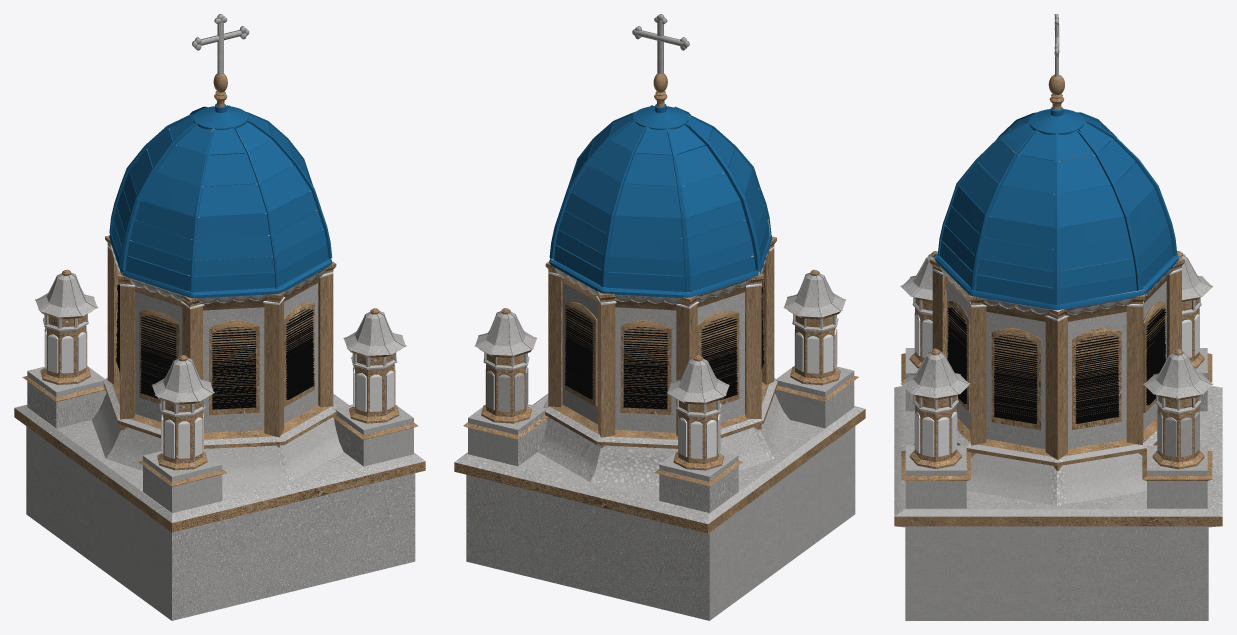
The model's file is UD-Dome.dae.
3 renders of one model, left to right at view 1: azimuth 30°, elevation 25°; view 2: azimuth 150°, elevation 25°; view 3: azimuth 270°, elevation 25°, orthographic. The views are drawn at different scales.
Visible parts, largest first — view 1: Main Fab, Side_brick_4, Side_brick_2, Side_brick_3, Window_5, Window_Pane_5, Main_column_7, Main_column_5, Main_column_8, Window_1, Window_6, Cylinder.003 (+10 smaller); view 2: Main Fab, Side_brick_3, Side_Brick_1, Window_7, Window_Pane_7, Side_brick_4, Main_column_3, Main_column_5, Window_4, Main_column_2, Window_8, Cylinder.002 (+10 smaller); view 3: Main Fab, Main_column_1, Window_2, Window_3, Side_brick_2, Side_Brick_1, Window_Pane_2, Window_Pane_3, Main_column_2, Main_column_8, Sphere.001, Sphere.005 (+19 smaller).
Boxes of the visible parts, <box> form: Main Fab: <box>14,105,425,620</box>; Side_brick_4: <box>138,451,226,513</box>; Side_brick_2: <box>332,404,418,466</box>; Side_brick_3: <box>22,366,106,428</box>; Window_5: <box>212,327,256,409</box>; Window_Pane_5: <box>209,320,259,414</box>; Main_column_7: <box>263,291,285,447</box>; Main_column_5: <box>117,272,135,429</box>; Main_column_8: <box>318,261,336,407</box>; Window_1: <box>286,309,314,399</box>; Window_6: <box>140,315,176,398</box>; Cylinder.003: <box>156,396,208,470</box>; Main Fab: <box>454,105,865,620</box>; Side_brick_3: <box>655,451,743,512</box>; Side_Brick_1: <box>463,404,548,466</box>; Window_7: <box>623,327,667,409</box>; Window_Pane_7: <box>620,320,671,414</box>; Side_brick_4: <box>775,366,858,428</box>; Main_column_3: <box>596,291,617,448</box>; Main_column_5: <box>745,272,764,429</box>; Window_4: <box>564,308,593,399</box>; Main_column_2: <box>545,261,562,407</box>; Window_8: <box>701,317,737,399</box>; Cylinder.002: <box>672,396,724,470</box>; Main Fab: <box>894,112,1222,620</box>; Main_column_1: <box>1044,309,1069,470</box>; Window_2: <box>993,335,1037,423</box>; Window_3: <box>1075,334,1119,423</box>; Side_brick_2: <box>901,445,970,508</box>; Side_Brick_1: <box>1142,445,1212,508</box>; Window_Pane_2: <box>991,328,1041,430</box>; Window_Pane_3: <box>1072,328,1121,430</box>; Main_column_2: <box>1126,294,1145,455</box>; Main_column_8: <box>968,294,986,456</box>; Sphere.001: <box>1143,348,1213,398</box>; Sphere.005: <box>900,348,970,398</box>.
Size of the model in its own units: 2.54 by 2.73 by 4.99.
5 materials, 3 textured.
